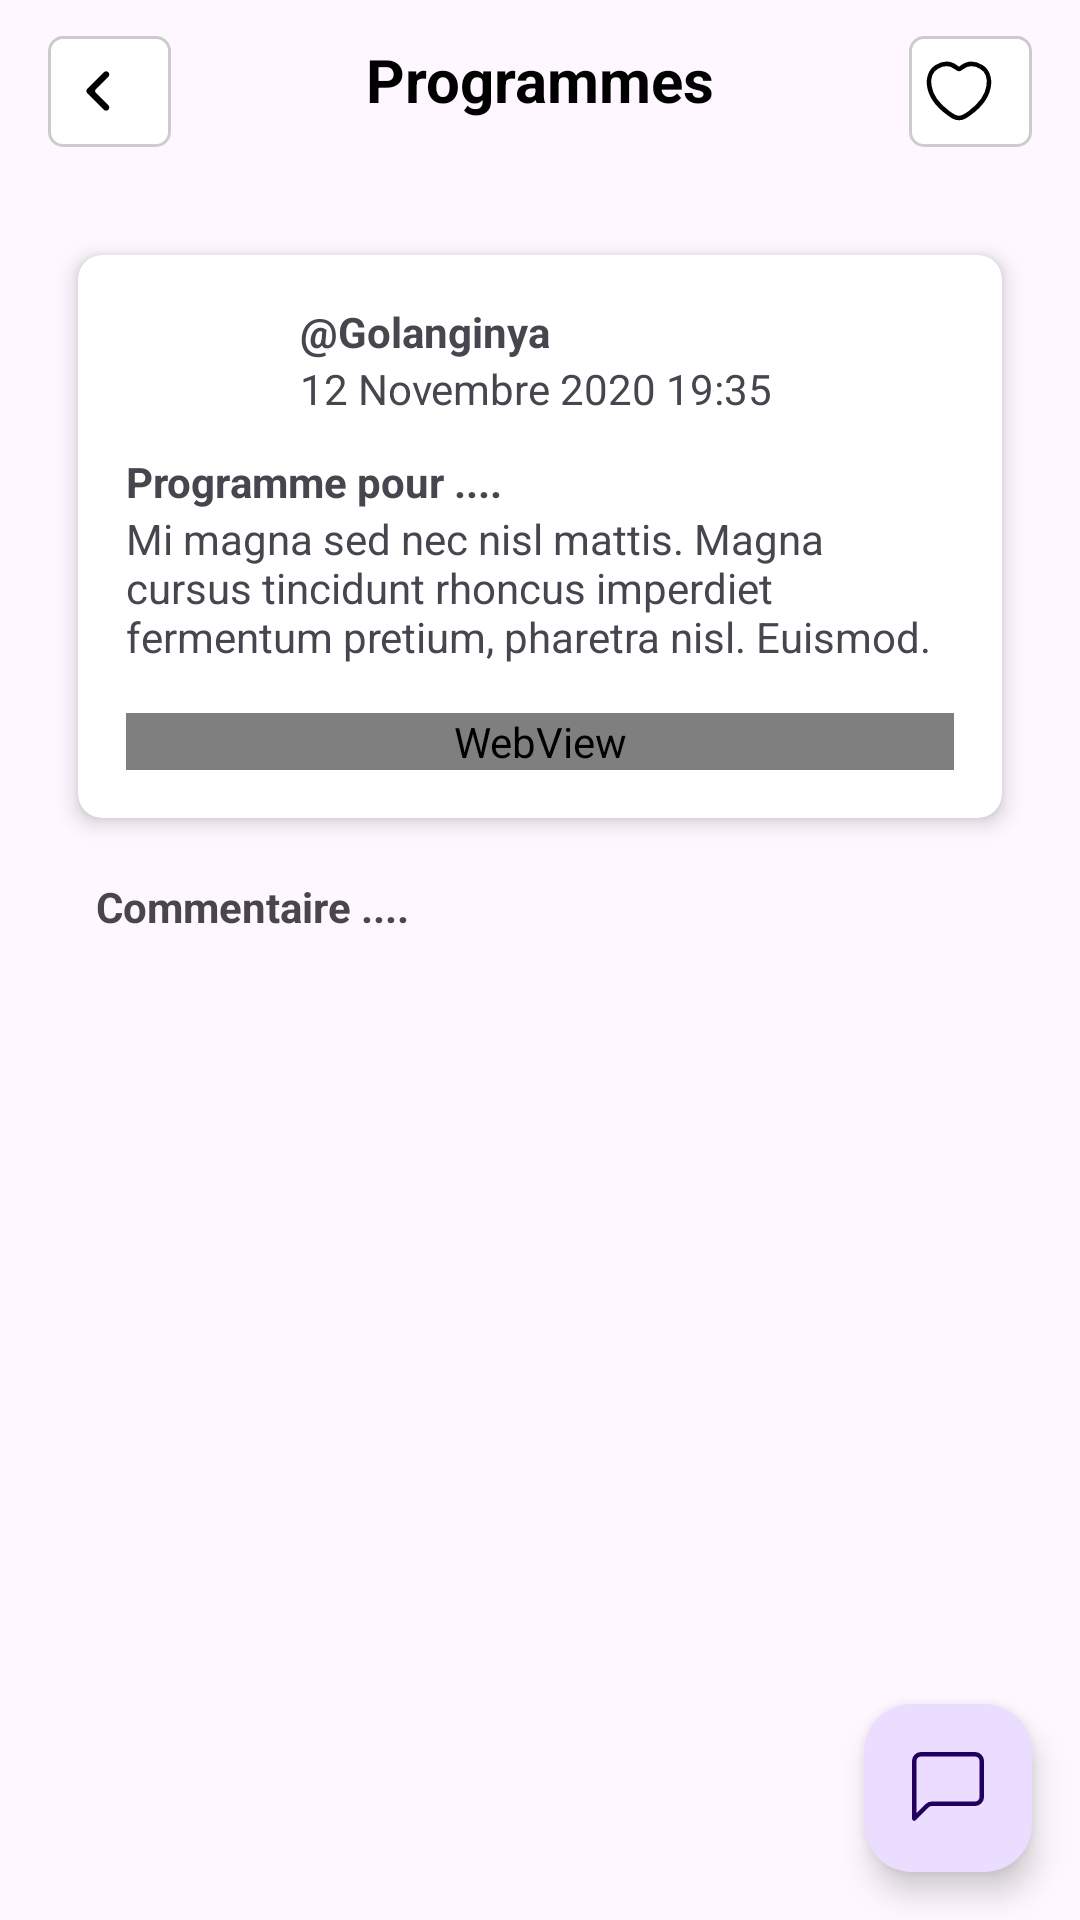

Screen size 1080px x 1920px. Icon name, then its center in pixels as point (x, y):
Add Comment: point (948, 1788)
chevron left: point (109, 91)
favourite: point (970, 91)
